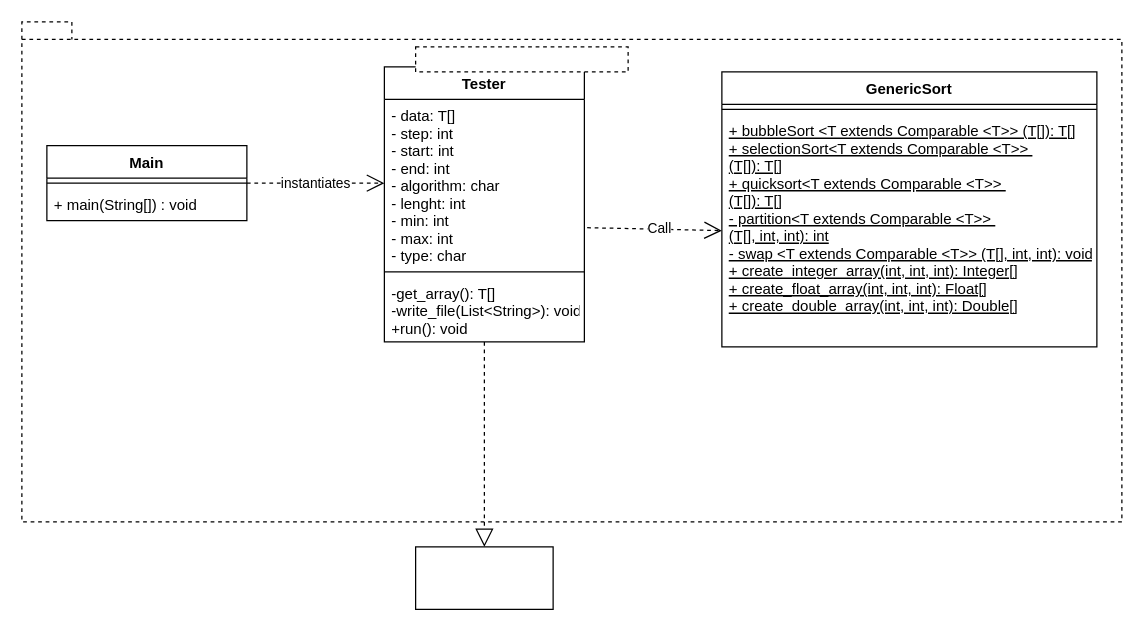
Some shapes in this 1144 by 631 pixel diagram are drawn without their labels. Each missing label, with the centre of its shape:
"T extends Comparable<T>" belongs at point (521, 59).
"«interface» Runnable" belongs at point (483, 577).
